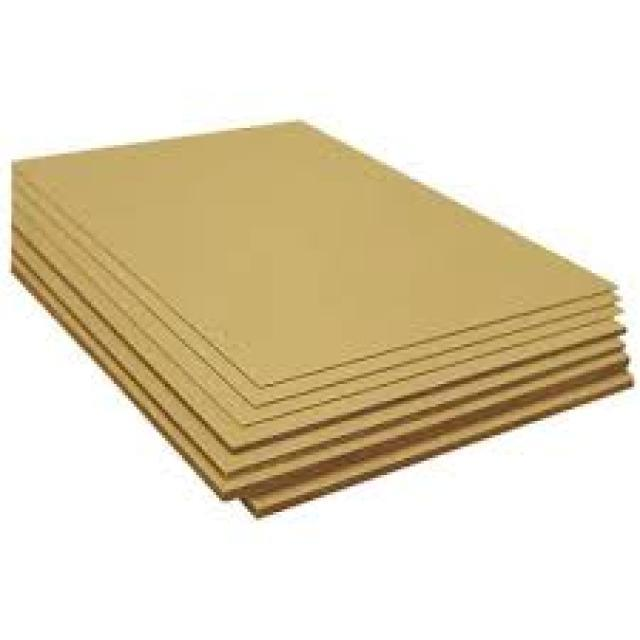Cardboard: (7, 114, 630, 518)
